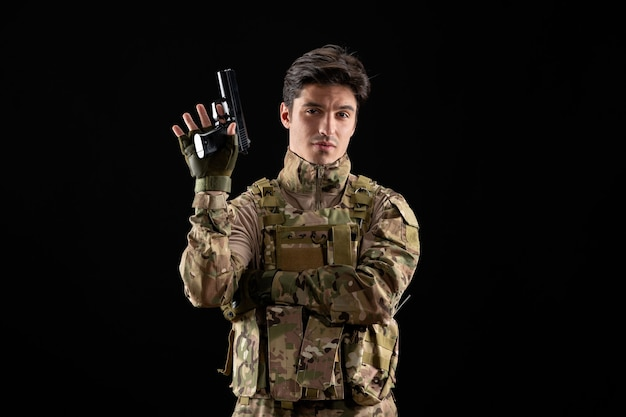gun: (194, 66, 254, 157)
